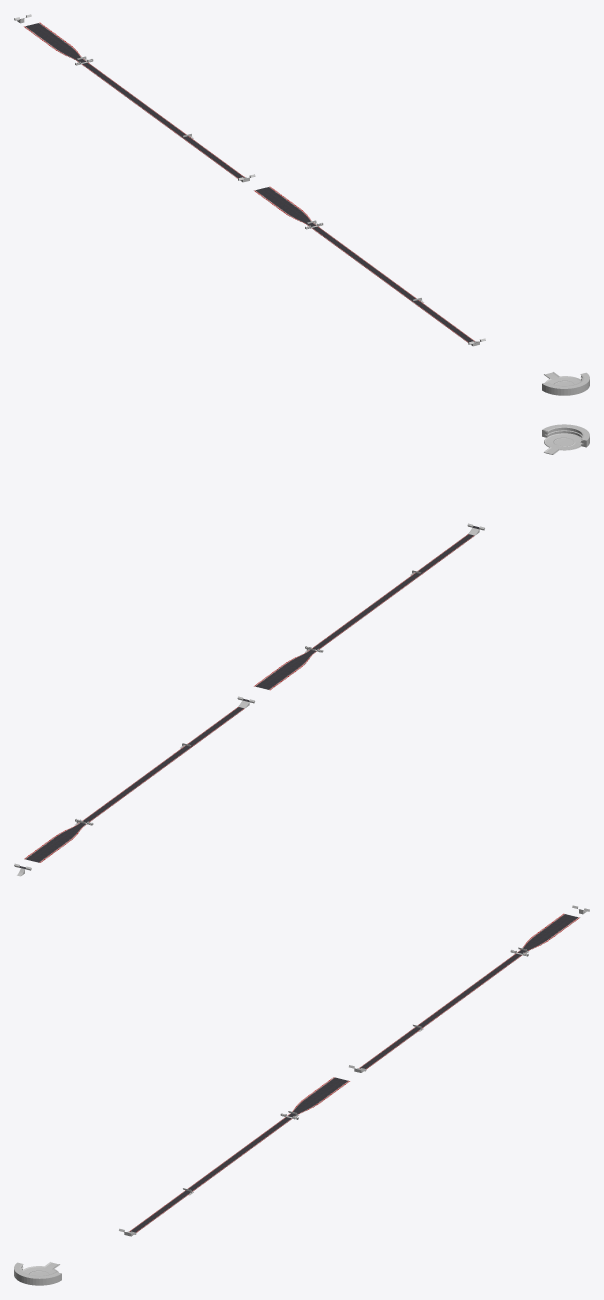
The model's file is level 3.fbx.
3 renders of one model, top to bottom at view 1: azimuth 30°, elevation 25°; view 2: azimuth 150°, elevation 25°; view 3: azimuth 330°, elevation 25°, orthographic.
Parts seen in each view (by area): view 1: road; view 2: road, Finish_Point_2; view 3: road.
Part boxes in pixels (box(x1,y1,x2,y2)): road: box(24, 22, 474, 342); road: box(24, 534, 474, 862); Finish_Point_2: box(544, 433, 582, 454); road: box(129, 913, 579, 1232).
Size of the model in its own units: 10748 by 9666 by 233503.
